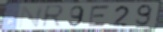2: (110, 4, 133, 28)
9: (134, 4, 154, 28), (67, 5, 85, 28)
E: (86, 5, 112, 28)
N: (17, 5, 46, 29)
R: (41, 4, 67, 29)
